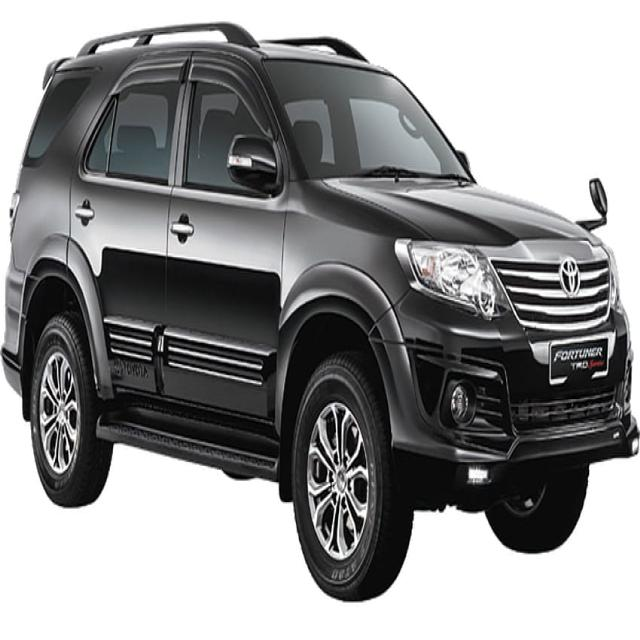light_vehicle: (0, 21, 638, 602)
